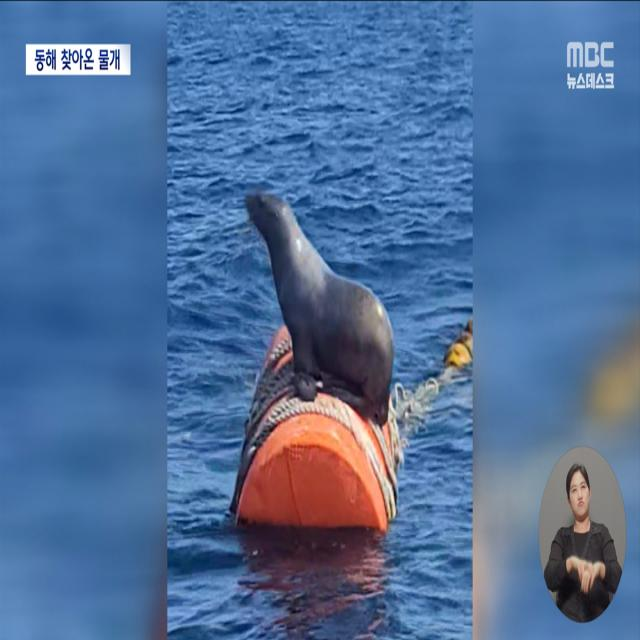WaterDog: (243, 188, 409, 428)
